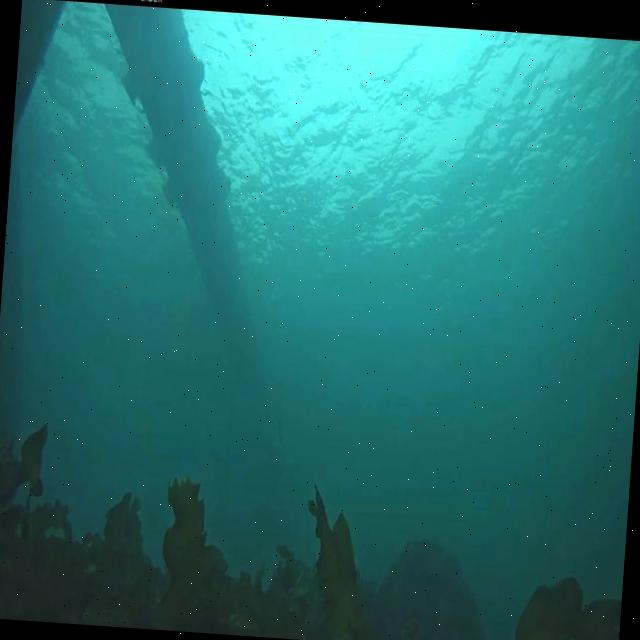fish: (273, 417, 287, 451)
